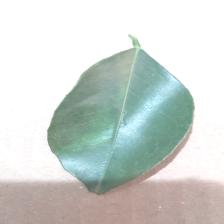greening: (52, 45, 187, 124)
